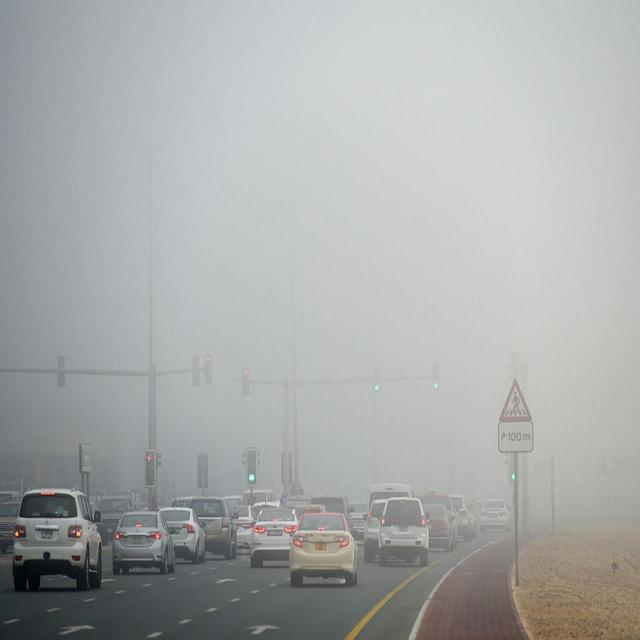car: (12, 485, 104, 591), (287, 510, 361, 589), (111, 512, 175, 574), (380, 494, 428, 562), (190, 499, 238, 558), (248, 509, 298, 565), (158, 507, 207, 562), (92, 494, 136, 542), (424, 501, 458, 550), (363, 498, 384, 561), (1, 499, 23, 553), (476, 498, 510, 532), (452, 491, 472, 538), (235, 502, 251, 554)
